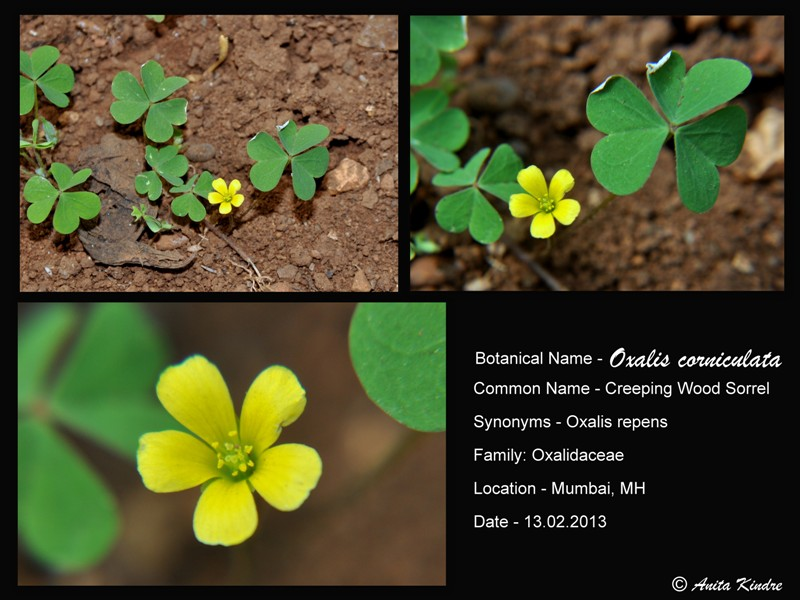oxalis: (584, 58, 762, 209), (415, 17, 516, 260), (104, 51, 206, 215), (31, 151, 112, 242), (242, 121, 327, 186), (19, 53, 88, 115)
